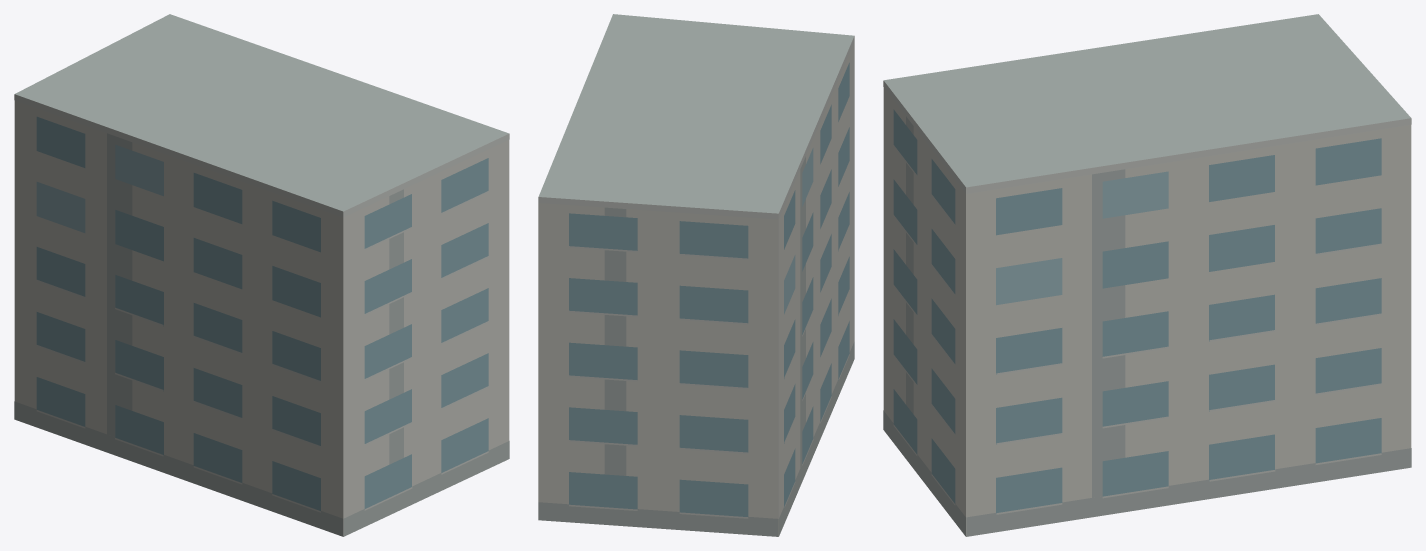
Rendered from survey-upis-32853015.glb.
3 views of the same model, side by side, from view 1: azimuth 30°, elevation 25°; view 2: azimuth 150°, elevation 25°; view 3: azimuth 270°, elevation 25° (orthographic). The views are drawn at different scales.
Parts seen in each view (by area): view 1: survey-upis-32853015.tmp; view 2: survey-upis-32853015.tmp; view 3: survey-upis-32853015.tmp.
Boxes of the visible parts, box(x1,y1,x2,y2) form: survey-upis-32853015.tmp: box(14, 14, 509, 536); survey-upis-32853015.tmp: box(538, 14, 854, 536); survey-upis-32853015.tmp: box(883, 14, 1411, 536).
Size of the model in its own units: 13.85 by 13 by 17.81.
